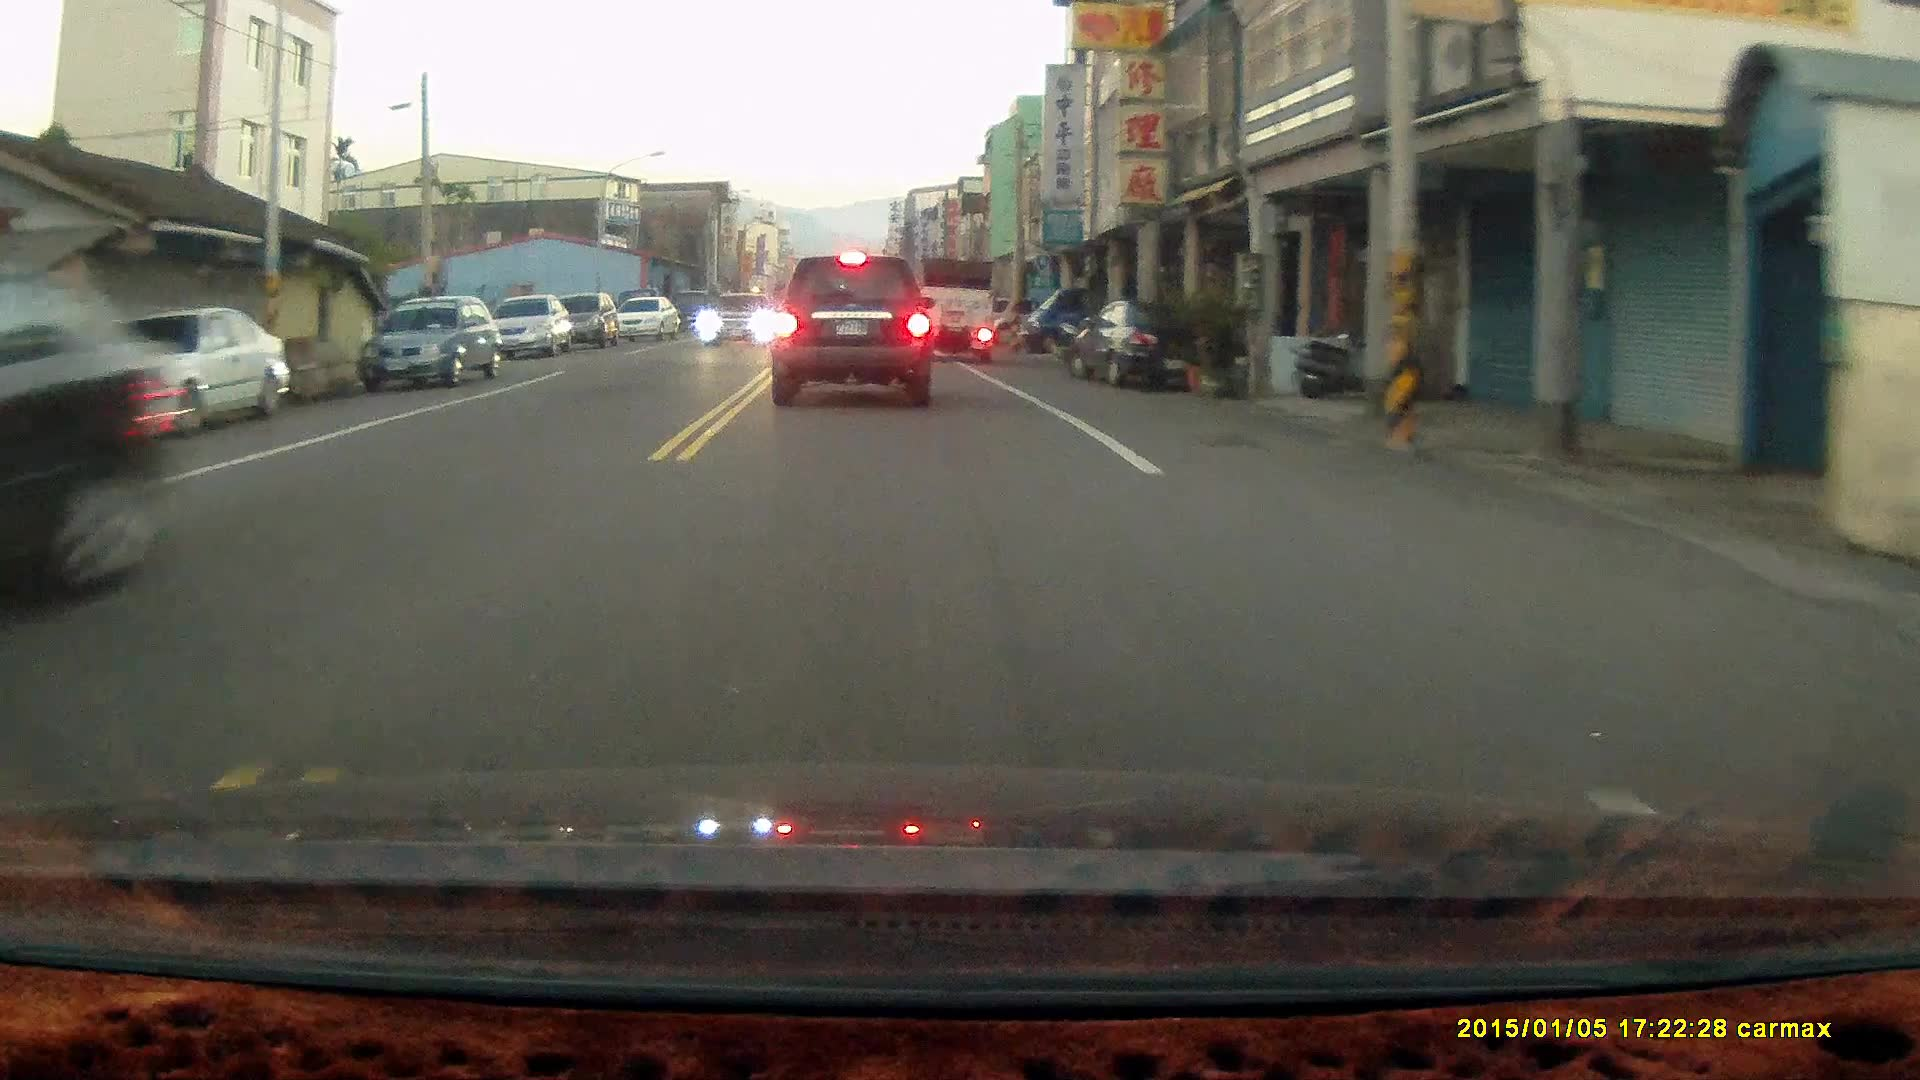vehicle: (1, 278, 170, 640), (84, 305, 284, 440), (771, 251, 935, 407), (1069, 297, 1224, 386), (363, 295, 502, 390), (907, 256, 1001, 369), (1025, 280, 1149, 360), (493, 294, 568, 360), (700, 293, 778, 349), (547, 291, 621, 348), (613, 297, 684, 348)
